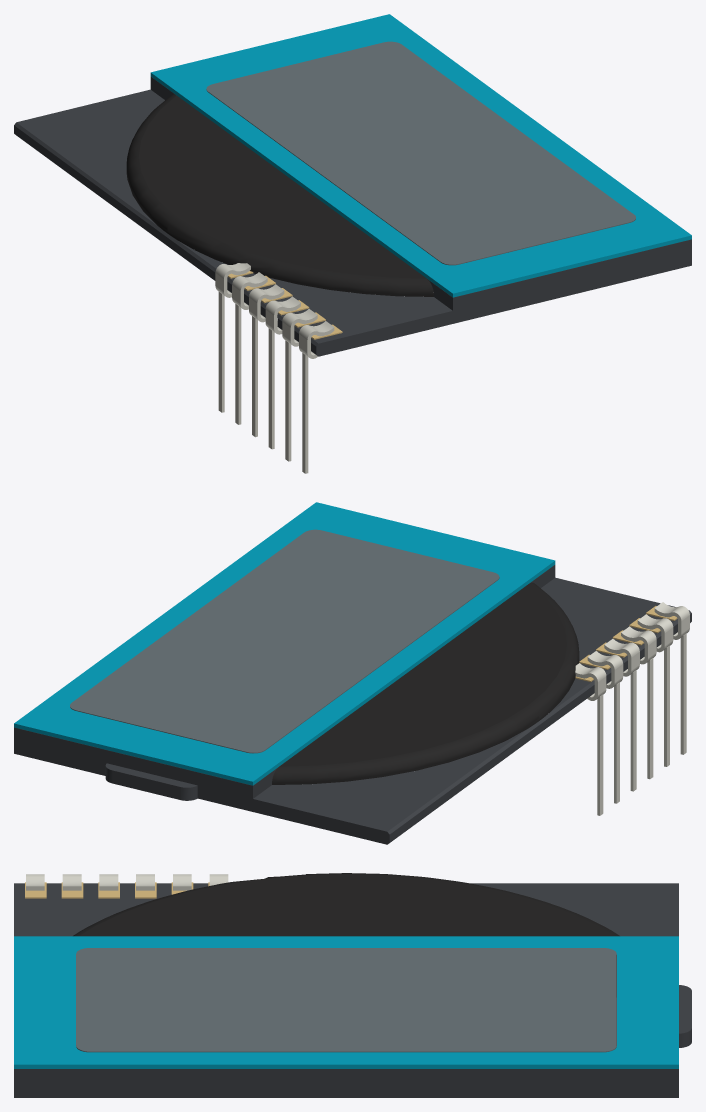
3 views of the same model, one above another, from view 1: azimuth 30°, elevation 25°; view 2: azimuth 150°, elevation 25°; view 3: azimuth 270°, elevation 25° (orthographic). The views are drawn at different scales.
Parts seen in each view (by area): view 1: 0.16666666666666666_0.16666666666666666_0.16666666666666666_, 0_0_0_0, 0_0.3333333333333333_0.5_0, 0.08333333333333333_0.08333333333333333_0.08333333333333333_, 0.6666666666666666_0.6666666666666666_0.5833333333333334_0.8, 0.75_0.5_0.25_0.9; view 2: 0.16666666666666666_0.16666666666666666_0.16666666666666666_, 0_0_0_0, 0_0.3333333333333333_0.5_0, 0.08333333333333333_0.08333333333333333_0.08333333333333333_, 0.6666666666666666_0.6666666666666666_0.5833333333333334_0.8, 0.75_0.5_0.25_0.9; view 3: 0.16666666666666666_0.16666666666666666_0.16666666666666666_, 0_0.3333333333333333_0.5_0, 0.08333333333333333_0.08333333333333333_0.08333333333333333_, 0_0_0_0, 0.6666666666666666_0.6666666666666666_0.5833333333333334_0.8, 0.75_0.5_0.25_0.9.
Boxes of the visible parts, x1=… form: 0.16666666666666666_0.16666666666666666_0.16666666666666666_: x1=206, y1=41, x2=635, y2=265; 0_0_0_0: x1=126, y1=94, x2=433, y2=296; 0_0.3333333333333333_0.5_0: x1=150, y1=14, x2=691, y2=297; 0.08333333333333333_0.08333333333333333_0.08333333333333333_: x1=14, y1=77, x2=691, y2=356; 0.6666666666666666_0.6666666666666666_0.5833333333333334_0.8: x1=215, y1=263, x2=334, y2=473; 0.75_0.5_0.25_0.9: x1=228, y1=271, x2=342, y2=339; 0.16666666666666666_0.16666666666666666_0.16666666666666666_: x1=70, y1=529, x2=499, y2=753; 0_0_0_0: x1=272, y1=582, x2=579, y2=784; 0_0.3333333333333333_0.5_0: x1=14, y1=502, x2=555, y2=785; 0.08333333333333333_0.08333333333333333_0.08333333333333333_: x1=14, y1=565, x2=691, y2=844; 0.6666666666666666_0.6666666666666666_0.5833333333333334_0.8: x1=575, y1=602, x2=689, y2=815; 0.75_0.5_0.25_0.9: x1=575, y1=606, x2=677, y2=681; 0.16666666666666666_0.16666666666666666_0.16666666666666666_: x1=76, y1=948, x2=616, y2=1052; 0_0.3333333333333333_0.5_0: x1=14, y1=936, x2=678, y2=1068; 0.08333333333333333_0.08333333333333333_0.08333333333333333_: x1=14, y1=883, x2=691, y2=1097; 0_0_0_0: x1=73, y1=873, x2=619, y2=997; 0.6666666666666666_0.6666666666666666_0.5833333333333334_0.8: x1=26, y1=874, x2=228, y2=890; 0.75_0.5_0.25_0.9: x1=25, y1=882, x2=209, y2=898.
Size of the model in its own units: 3.33 by 1.28 by 4.69.
